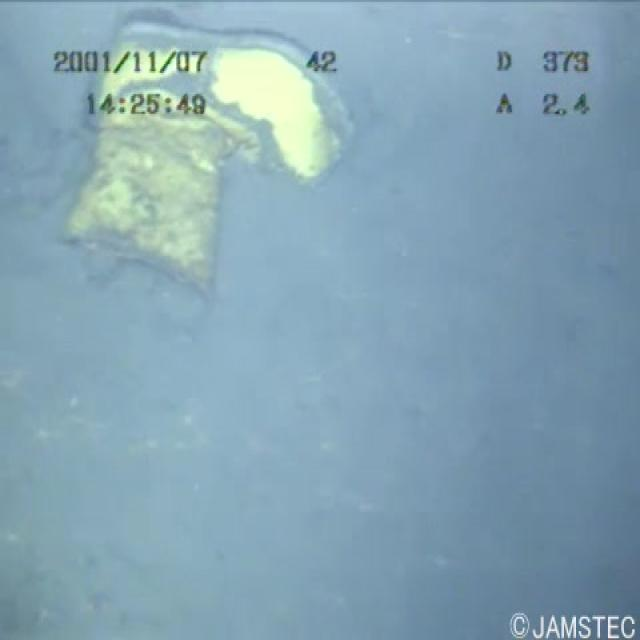plastic: (65, 5, 378, 304)
